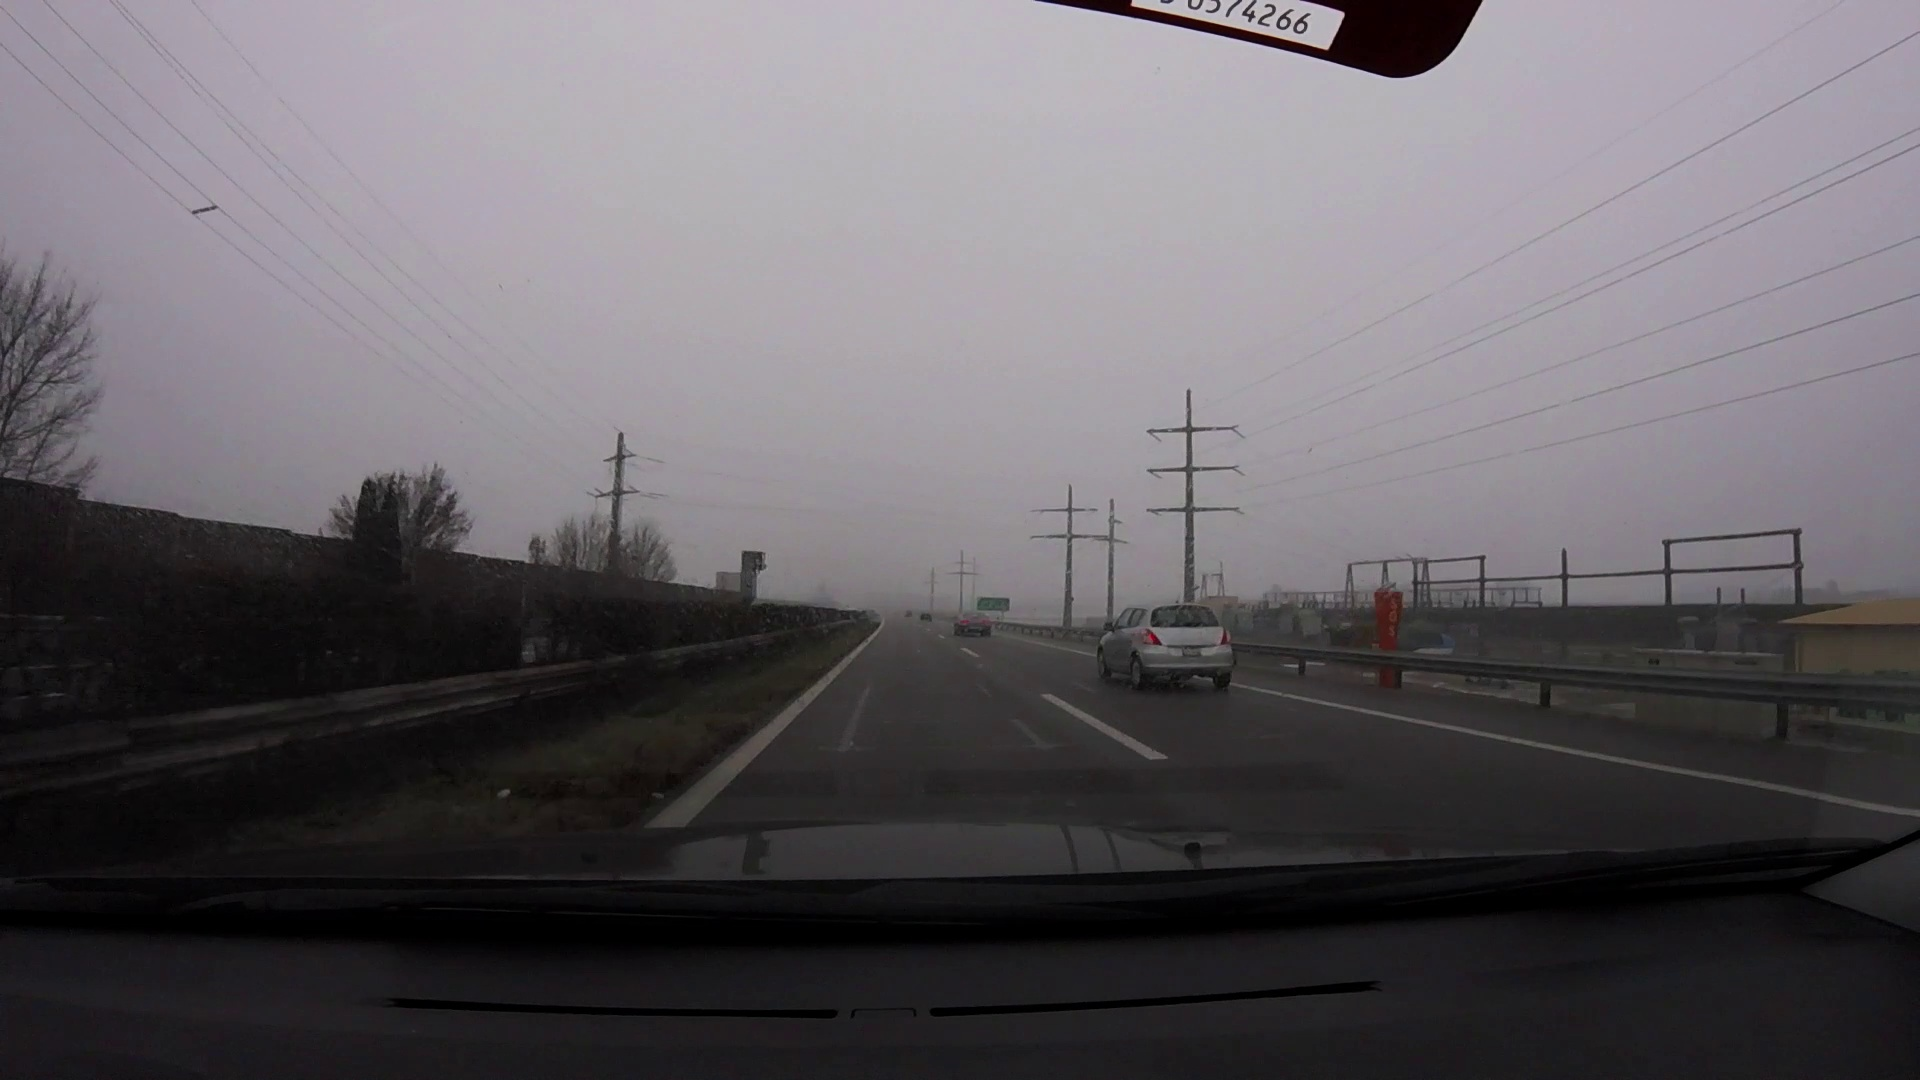radar: (738, 549, 770, 611)
